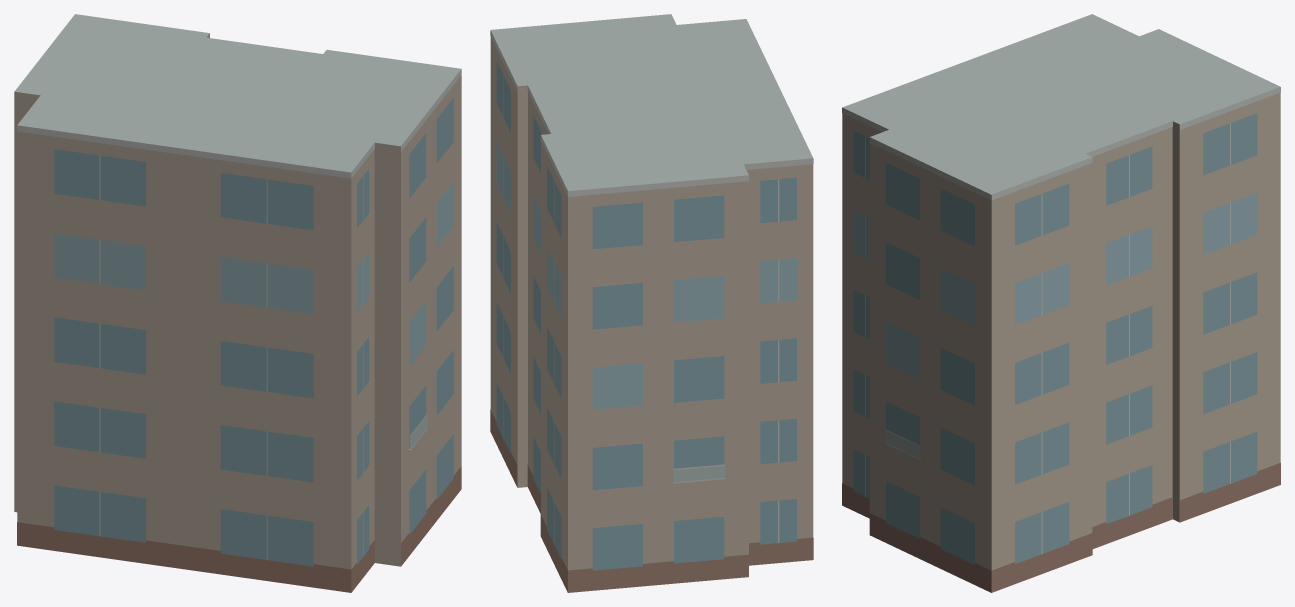
The model's file is survey-upis-32939822.glb.
The picture shows the model from 3 angles, left to right: view 1: azimuth 30°, elevation 25°; view 2: azimuth 150°, elevation 25°; view 3: azimuth 270°, elevation 25°; orthographic projection. The views are drawn at different scales.
Visible parts, largest first — view 1: survey-upis-32939822.tmp; view 2: survey-upis-32939822.tmp; view 3: survey-upis-32939822.tmp.
Part boxes in pixels (x1=…): survey-upis-32939822.tmp: x1=14, y1=14, x2=461, y2=592; survey-upis-32939822.tmp: x1=490, y1=14, x2=813, y2=592; survey-upis-32939822.tmp: x1=842, y1=14, x2=1280, y2=592.
Size of the model in its own units: 16.37 by 16.8 by 16.78.
